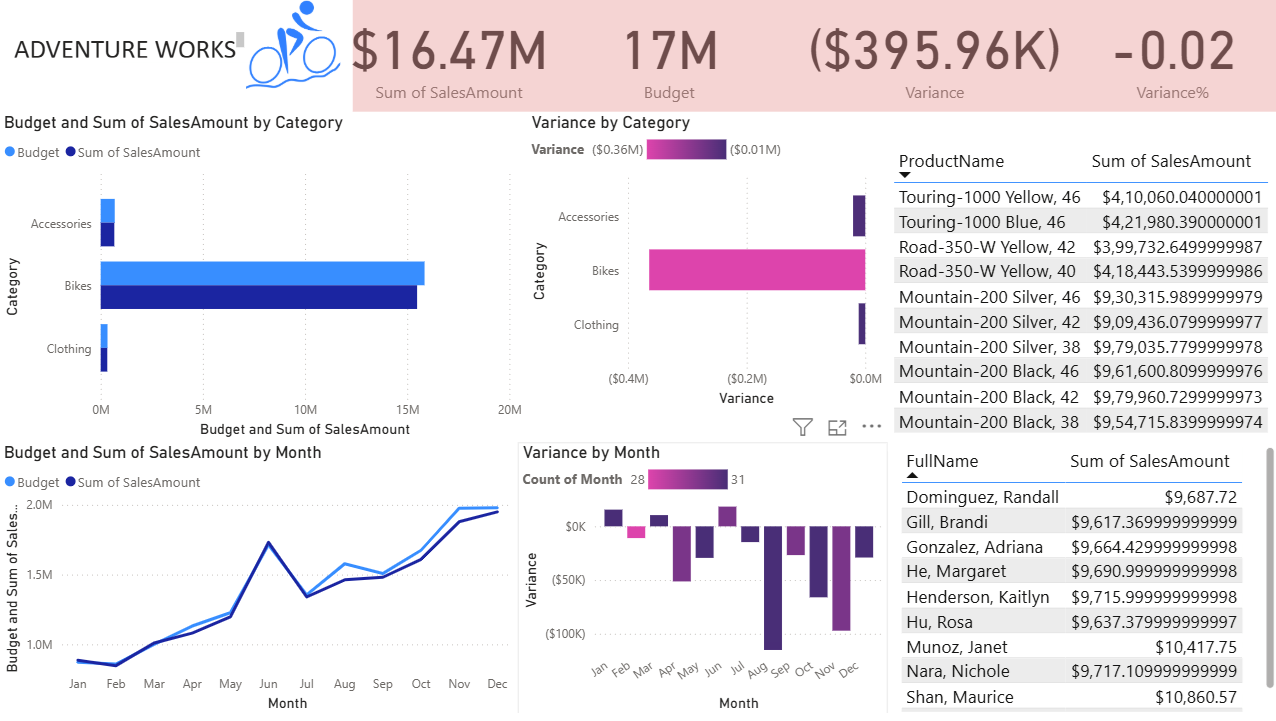

What the dashboard file says about the page in this screenshot:
{"tool":"powerbi","page":{"name":"Page 1","canvas":[1280,720],"ordinal":0},"visuals":[{"type":"textbox","box":[10,31.1,240,35.6],"z":0},{"type":"image","box":[217.8,0,156.7,97.8],"z":1000},{"type":"card","fields":{"Values":["Sales.SalesAmount"]},"box":[341.7,0,218.2,115.3],"z":2000},{"type":"card","fields":{"Values":["Budget.Budget"]},"box":[559.9,0,220.9,115.3],"z":3000},{"type":"card","fields":{"Values":["Budget.Variance"]},"box":[805.5,0,262.1,115.3],"z":4000},{"type":"card","fields":{"Values":["Budget.Variance%"]},"box":[1067.1,0,212.9,115.7],"z":5000},{"type":"shape","box":[354.3,0,925.7,115.7],"z":6000},{"type":"clusteredBarChart","fields":{"Y":["Budget.Budget","Sales.SalesAmount"],"Category":["Product.Category"]},"box":[0,115.7,527.1,330],"z":7000},{"type":"clusteredBarChart","fields":{"Category":["Product.Category"],"Y":["Budget.Variance"]},"box":[527.5,116.2,361.2,298.8],"z":8000},{"type":"lineChart","fields":{"Category":["Calendar.Month"],"Y":["Budget.Budget","Sales.SalesAmount"]},"box":[0,446.2,518.8,273.8],"z":9000},{"type":"clusteredColumnChart","fields":{"Category":["Calendar.Month"],"Y":["Budget.Variance"]},"box":[518.8,446.2,370,273.8],"z":10000},{"type":"tableEx","fields":{"Values":["Product.ProductName","Sales.SalesAmount"]},"box":[888.6,145.7,391.4,308.6],"z":11000},{"type":"tableEx","fields":{"Values":["Customer.FullName","Sales.SalesAmount"]},"box":[895.7,445.7,384.3,274.3],"z":12000}]}

Visuals, with their boxes in screenshot pixels (x1, y1, x2, y2), scaled from the page's 1280x720 canvas onto the 1276x721 screenshot:
textbox: bbox=(10, 31, 249, 67)
image: bbox=(217, 0, 373, 98)
card - Sales.SalesAmount: bbox=(341, 0, 558, 115)
card - Budget.Budget: bbox=(558, 0, 778, 115)
card - Budget.Variance: bbox=(803, 0, 1064, 115)
card - Budget.Variance%: bbox=(1064, 0, 1275, 116)
shape: bbox=(353, 0, 1275, 116)
clusteredBarChart - Budget.Budget x Sales.SalesAmount: bbox=(0, 116, 525, 446)
clusteredBarChart - Product.Category x Budget.Variance: bbox=(526, 116, 886, 416)
lineChart - Calendar.Month x Budget.Budget: bbox=(0, 447, 517, 720)
clusteredColumnChart - Calendar.Month x Budget.Variance: bbox=(517, 447, 886, 720)
tableEx - Product.ProductName x Sales.SalesAmount: bbox=(886, 146, 1275, 455)
tableEx - Customer.FullName x Sales.SalesAmount: bbox=(893, 446, 1275, 720)
